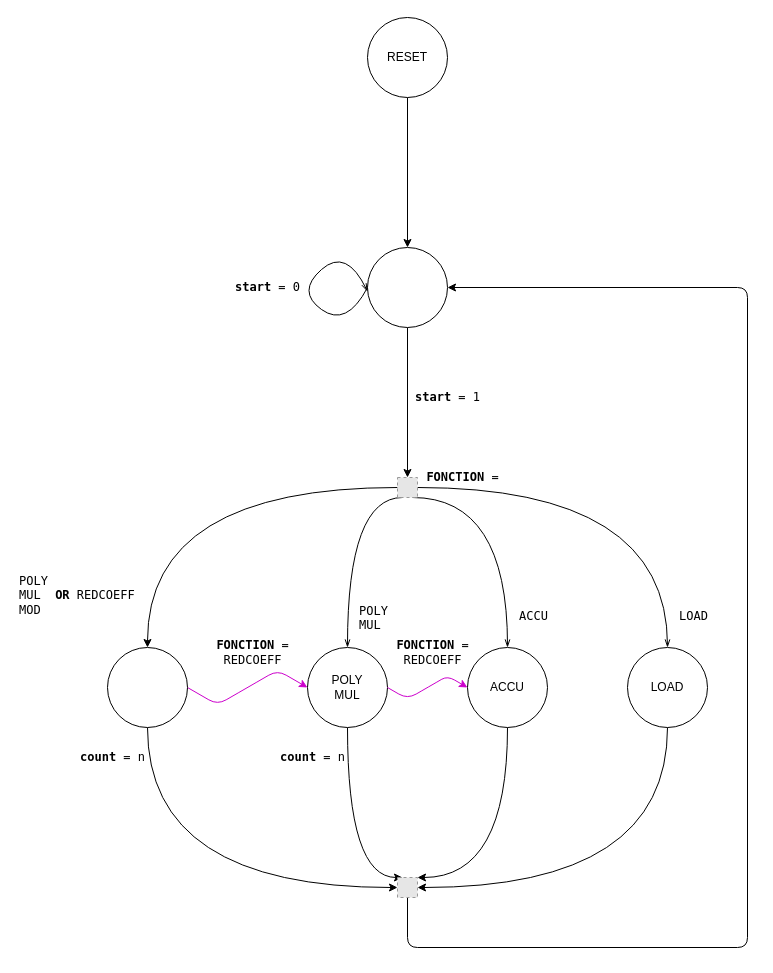
This 773x973 diagram has some shape labels left out. Grey dashed boxes stand in for pictures. The shapes that lost their labels are listed below. From the top down, each one's centre as x and y in pixels, then its label:
At point (407, 287): "IDLE".
At point (147, 687): "POLY MUL MOD".
